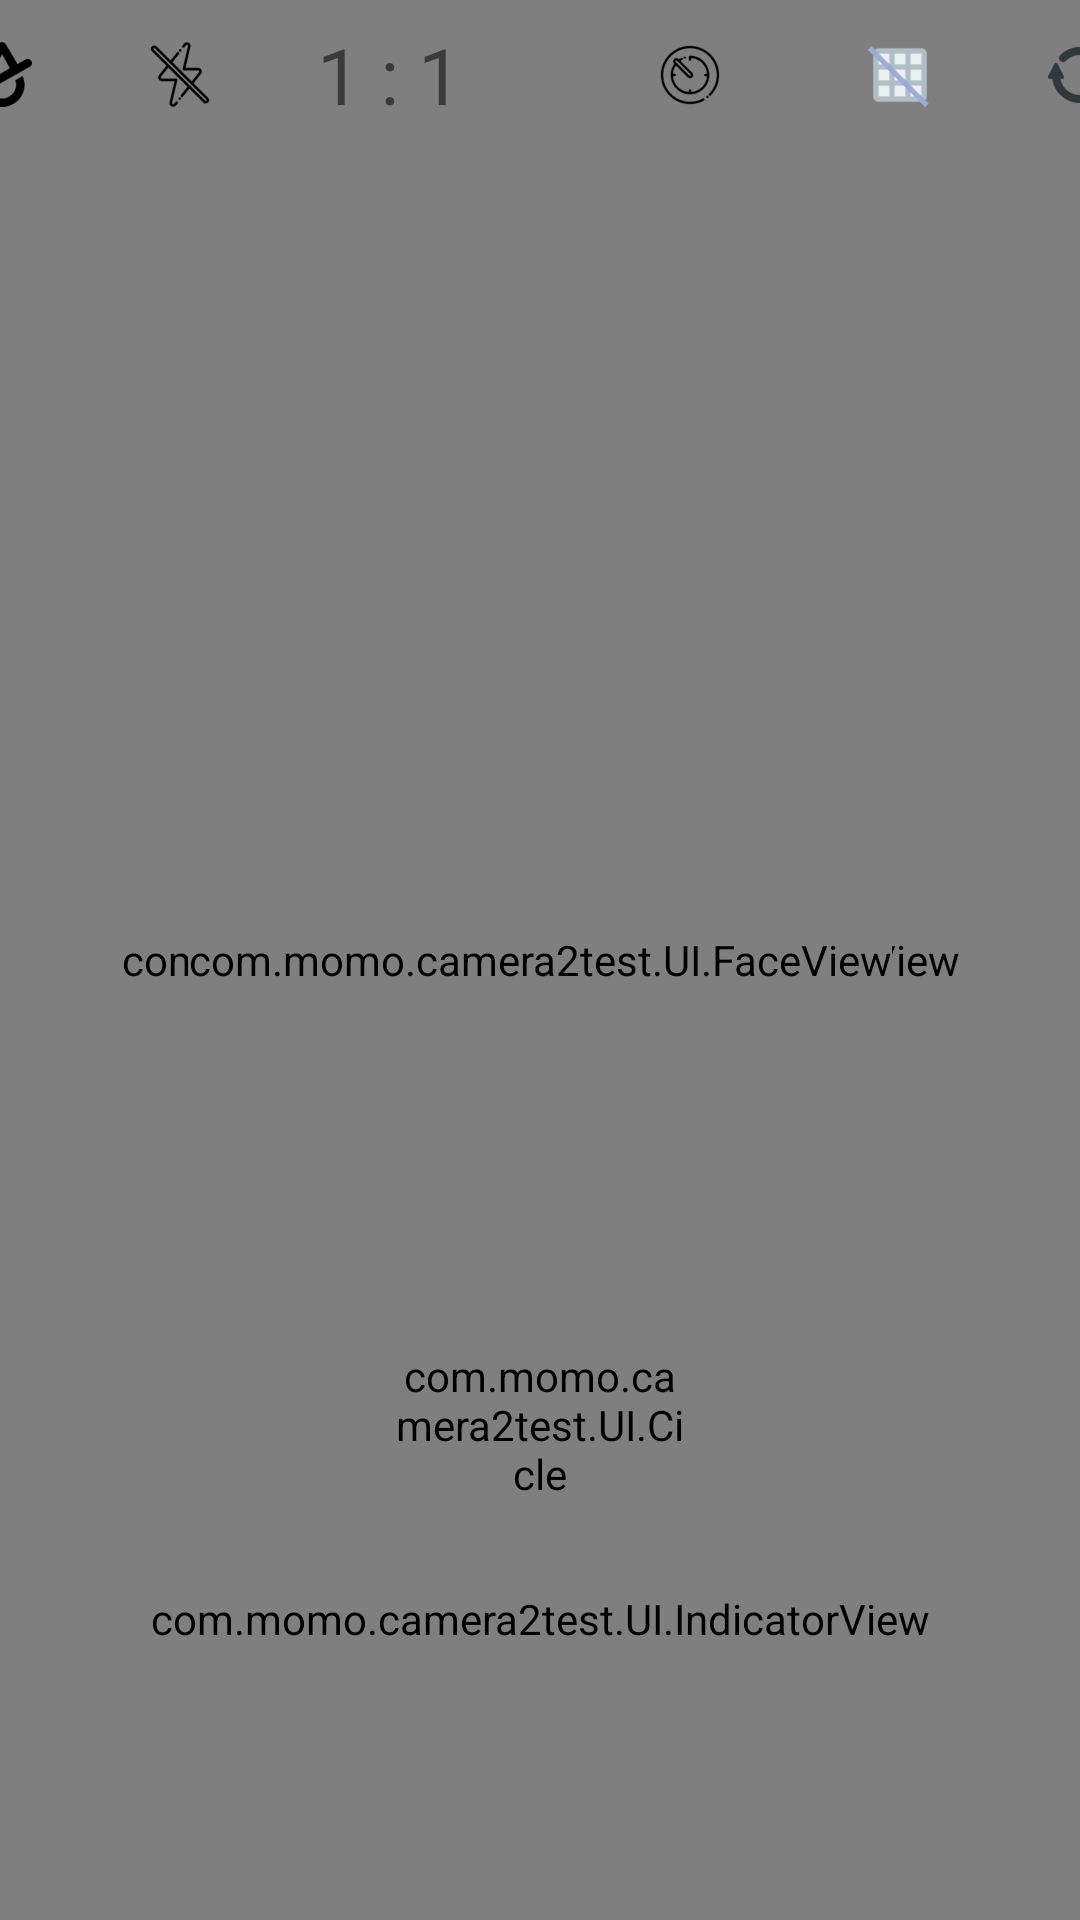

Icon click points for this 1080*1920 phone screenshot, format (x,y):
flash false: (180,74)
grid false: (898,76)
time false: (690,75)
